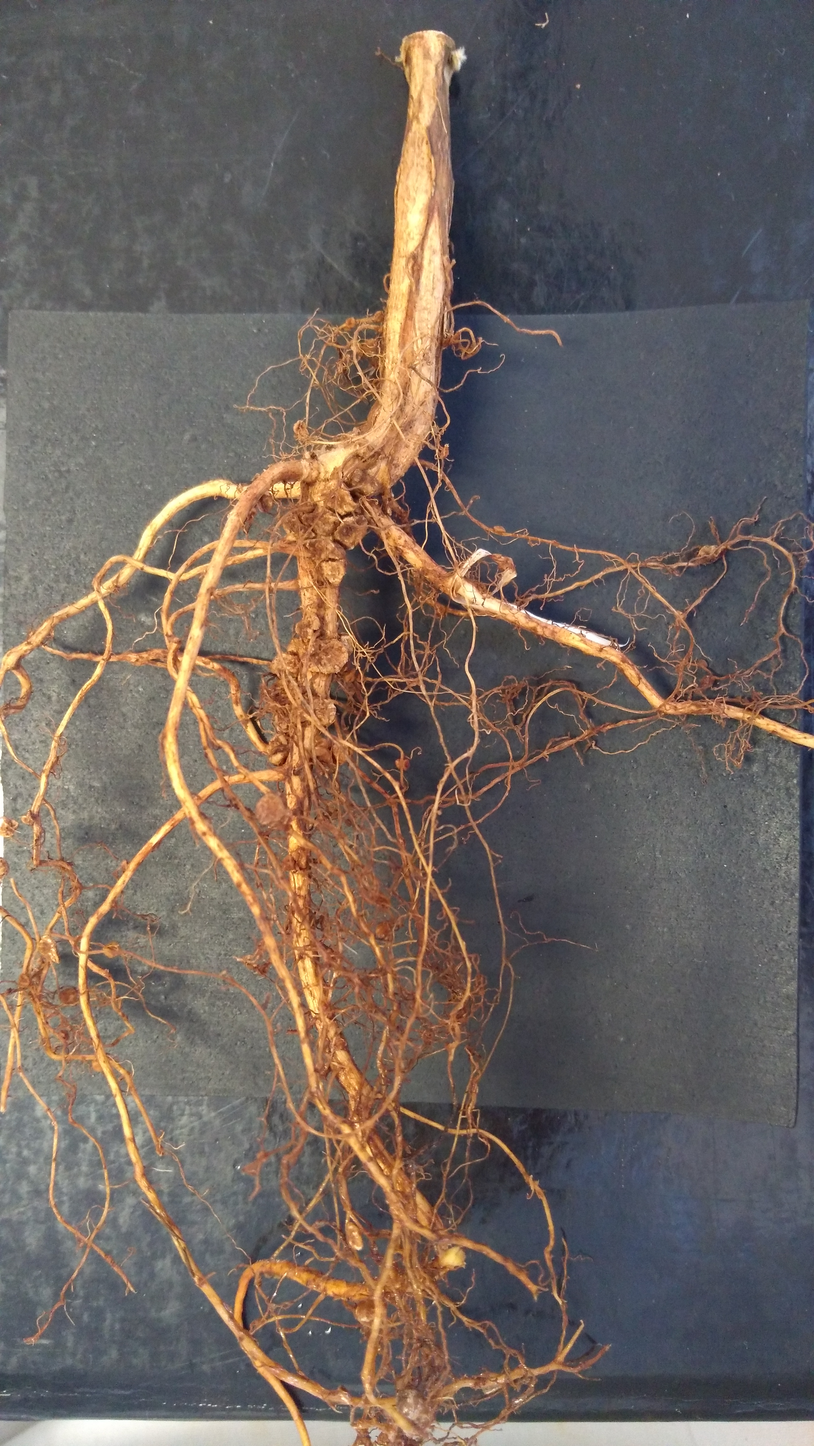nodule: (309, 637, 349, 674), (253, 792, 293, 829), (333, 514, 370, 551), (326, 484, 358, 516), (349, 467, 381, 498), (395, 1387, 424, 1420), (268, 651, 299, 678), (318, 560, 348, 587), (311, 510, 340, 537), (295, 608, 321, 638), (309, 698, 337, 725), (36, 934, 61, 964), (437, 1246, 467, 1271), (314, 539, 347, 561), (359, 337, 382, 368), (267, 733, 289, 765), (287, 696, 311, 724), (477, 1371, 505, 1395), (313, 745, 335, 775), (346, 1221, 364, 1251), (696, 543, 720, 565), (281, 511, 302, 535), (354, 1299, 376, 1321), (332, 740, 350, 765), (0, 815, 18, 838), (286, 639, 306, 659), (273, 713, 291, 734), (57, 987, 78, 1005), (291, 848, 308, 869), (102, 941, 120, 959), (374, 921, 391, 940), (340, 635, 354, 657), (323, 776, 340, 794), (20, 809, 36, 826), (0, 855, 10, 881), (16, 972, 32, 988), (260, 494, 274, 512), (292, 419, 307, 435), (282, 855, 296, 872), (394, 757, 410, 770), (343, 668, 356, 684), (314, 735, 329, 748), (91, 1058, 104, 1073), (700, 674, 714, 687), (673, 609, 688, 621), (301, 512, 314, 525), (58, 1028, 70, 1041), (439, 445, 449, 460), (373, 310, 385, 322), (345, 316, 356, 328), (356, 670, 365, 684), (493, 525, 506, 534), (698, 658, 709, 668), (343, 818, 352, 828)
